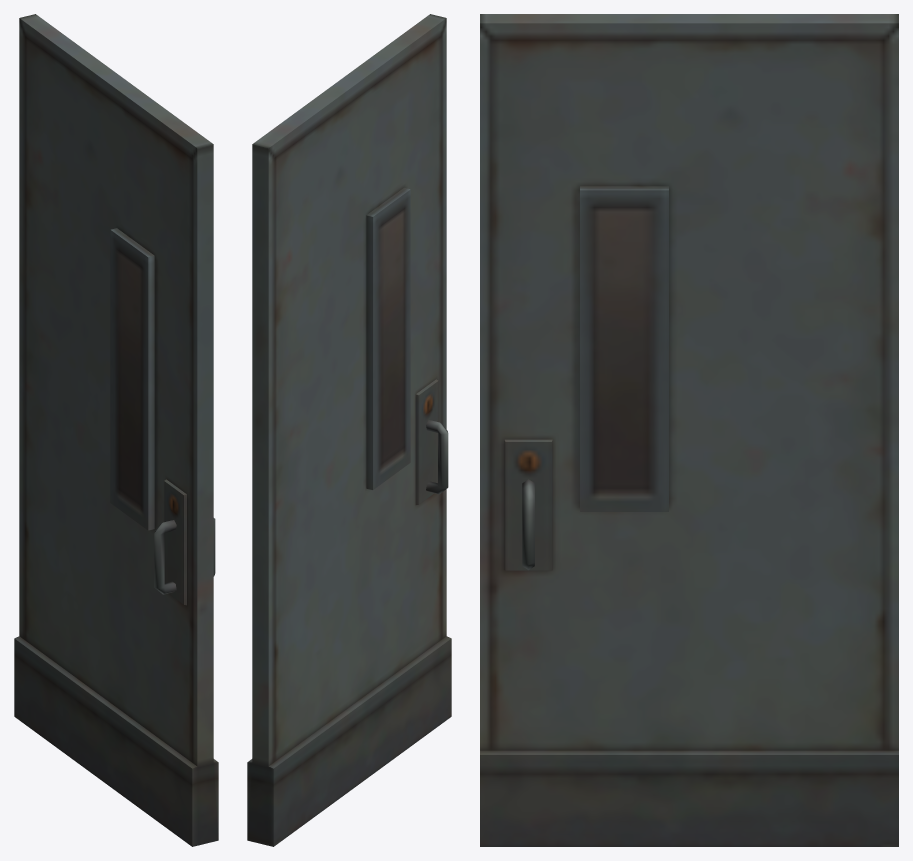
The model's file is Door02.FBX.
The picture shows the model from 3 angles, left to right: view 1: azimuth 30°, elevation 25°; view 2: azimuth 150°, elevation 25°; view 3: azimuth 270°, elevation 25°; orthographic projection. The views are drawn at different scales.
Parts seen in each view (by area): view 1: Door02; view 2: Door02; view 3: Door02.
Part boxes in pixels (<box>): Door02: <box>14,14,218,846</box>; Door02: <box>247,14,451,846</box>; Door02: <box>480,14,898,846</box>.
Size of the model in its own units: 0.2132 by 2.32 by 1.07.
1 material, 1 textured.
